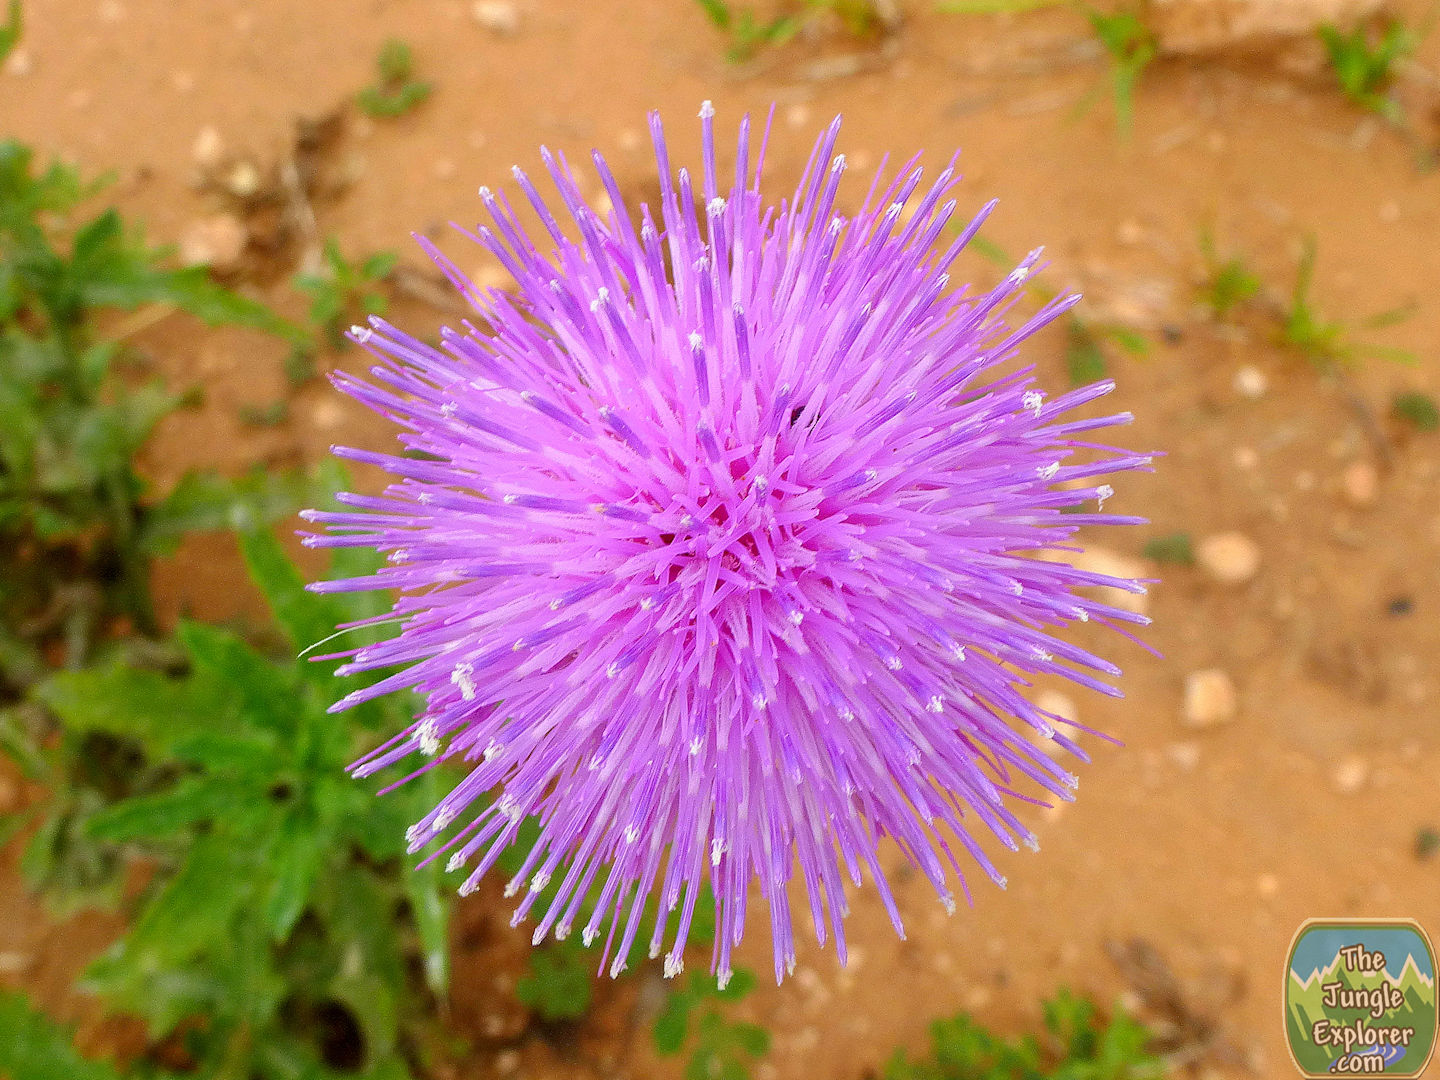thistle: (302, 118, 1152, 1009)
